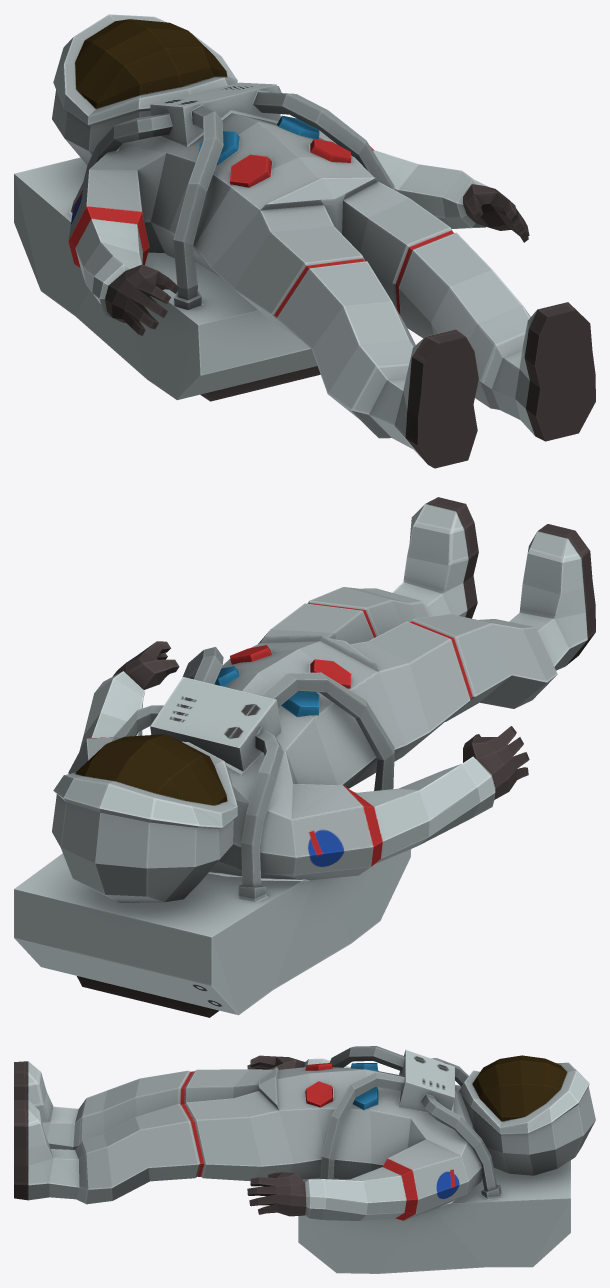
Rendered from Astronaut.obj.
3 views of the same model, one above another, from view 1: azimuth 30°, elevation 25°; view 2: azimuth 150°, elevation 25°; view 3: azimuth 270°, elevation 25° (orthographic). The views are drawn at different scales.
Parts seen in each view (by area): view 1: Astronaut_mesh; view 2: Astronaut_mesh; view 3: Astronaut_mesh.
Boxes of the visible parts, x1,y1,x2,y2 form: Astronaut_mesh: (14, 14, 595, 468); Astronaut_mesh: (14, 497, 595, 1017); Astronaut_mesh: (14, 1046, 595, 1273).
Size of the model in its own units: 2.24 by 1.45 by 4.02.
